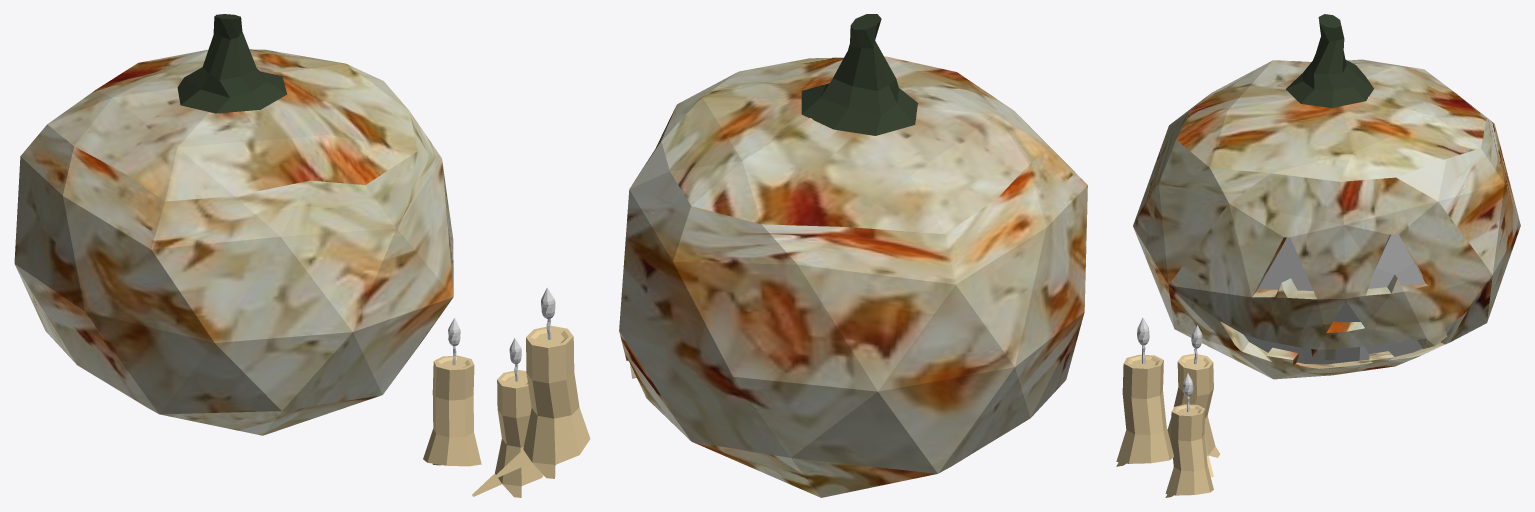
File: uploads_files_2171626_pumpkin01.fbx
The picture shows the model from 3 angles, left to right: view 1: azimuth 30°, elevation 25°; view 2: azimuth 150°, elevation 25°; view 3: azimuth 270°, elevation 25°; orthographic projection. The views are drawn at different scales.
Visible parts, largest first — view 1: Icosphere.001, Cylinder.003, Cube.006, Cylinder.012, Cylinder.006; view 2: Icosphere.001, Cube.006; view 3: Icosphere.001, Cylinder.003, Cube.006, Cylinder.006, Cylinder.012.
Part boxes in pixels (left/top/right/bottom): Icosphere.001: left=14, top=49, right=453, bottom=435; Cylinder.003: left=496, top=325, right=590, bottom=478; Cube.006: left=177, top=14, right=287, bottom=113; Cylinder.012: left=423, top=355, right=481, bottom=466; Cylinder.006: left=472, top=370, right=543, bottom=497; Icosphere.001: left=619, top=56, right=1087, bottom=497; Cube.006: left=801, top=14, right=917, bottom=135; Icosphere.001: left=1133, top=59, right=1520, bottom=379; Cylinder.003: left=1116, top=354, right=1173, bottom=466; Cube.006: left=1285, top=14, right=1373, bottom=107; Cylinder.006: left=1165, top=404, right=1213, bottom=497; Cylinder.012: left=1167, top=353, right=1220, bottom=476.
Size of the model in its own units: 566 by 599 by 548.
